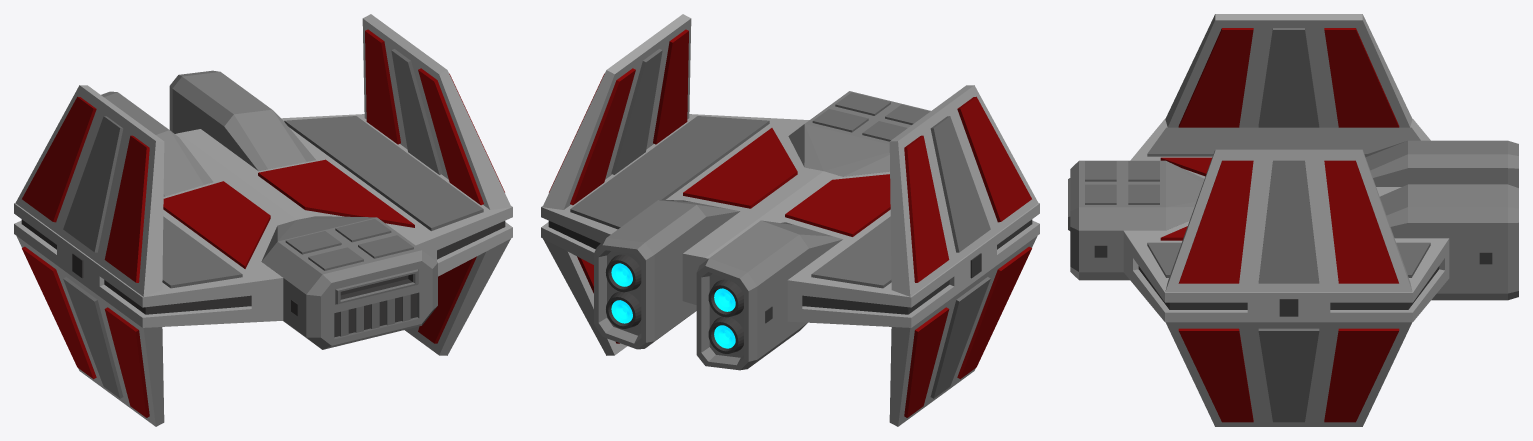
The model's file is Dreadnought.fbx.
3 renders of one model, left to right at view 1: azimuth 30°, elevation 25°; view 2: azimuth 150°, elevation 25°; view 3: azimuth 270°, elevation 25°, orthographic. The views are drawn at different scales.
Visible parts, largest first — view 1: Body, Wing.001, Bridge, Wing, Wing.002, Engine.001, Wing.003, Engine; view 2: Body, Wing.001, Wing, Engine, Engine.001, Wing.002, Bridge, Wing.003; view 3: Wing, Wing.001, Body, Wing.003, Engine.001, Bridge, Engine.
Boxes of the visible parts, x1,y1,x2,y2 form: Body: (14,114,512,327); Wing.001: (15,85,164,296); Bridge: (261,216,437,349); Wing: (362,14,511,209); Wing.002: (16,236,164,426); Engine.001: (169,70,315,170); Wing.003: (404,239,510,355); Engine: (101,91,213,196); Body: (541,114,1039,327); Wing.001: (889,85,1038,296); Wing: (542,14,691,209); Engine: (696,220,842,370); Engine.001: (594,200,740,349); Wing.002: (889,236,1037,426); Bridge: (788,91,930,176); Wing.003: (543,239,627,355); Wing: (1165,149,1412,292); Wing.001: (1165,14,1412,127); Body: (1123,118,1449,322); Wing.003: (1165,322,1411,426); Engine.001: (1380,184,1518,300); Bridge: (1068,160,1204,280); Engine: (1365,140,1518,187).
Size of the model in its own units: 27.08 by 29.43 by 19.86.
